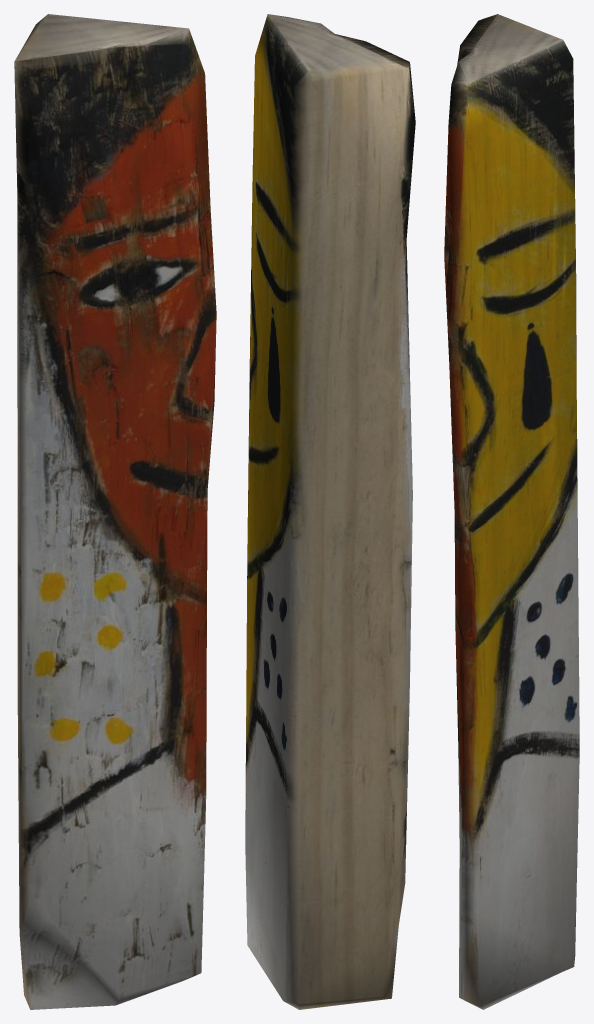
File: 488_G_KHS_124.obj
The picture shows the model from 3 angles, left to right: view 1: azimuth 30°, elevation 25°; view 2: azimuth 150°, elevation 25°; view 3: azimuth 270°, elevation 25°; orthographic projection. The views are drawn at different scales.
Parts seen in each view (by area): view 1: 488_G_KHS_124; view 2: 488_G_KHS_124; view 3: 488_G_KHS_124.
Part boxes in pixels (x1,y1,x2,y2): 488_G_KHS_124: (14, 14, 216, 1009); 488_G_KHS_124: (245, 14, 415, 1009); 488_G_KHS_124: (444, 14, 579, 1009).
Size of the model in its own units: 25.93 by 131 by 17.4.
1 material, 1 textured.
